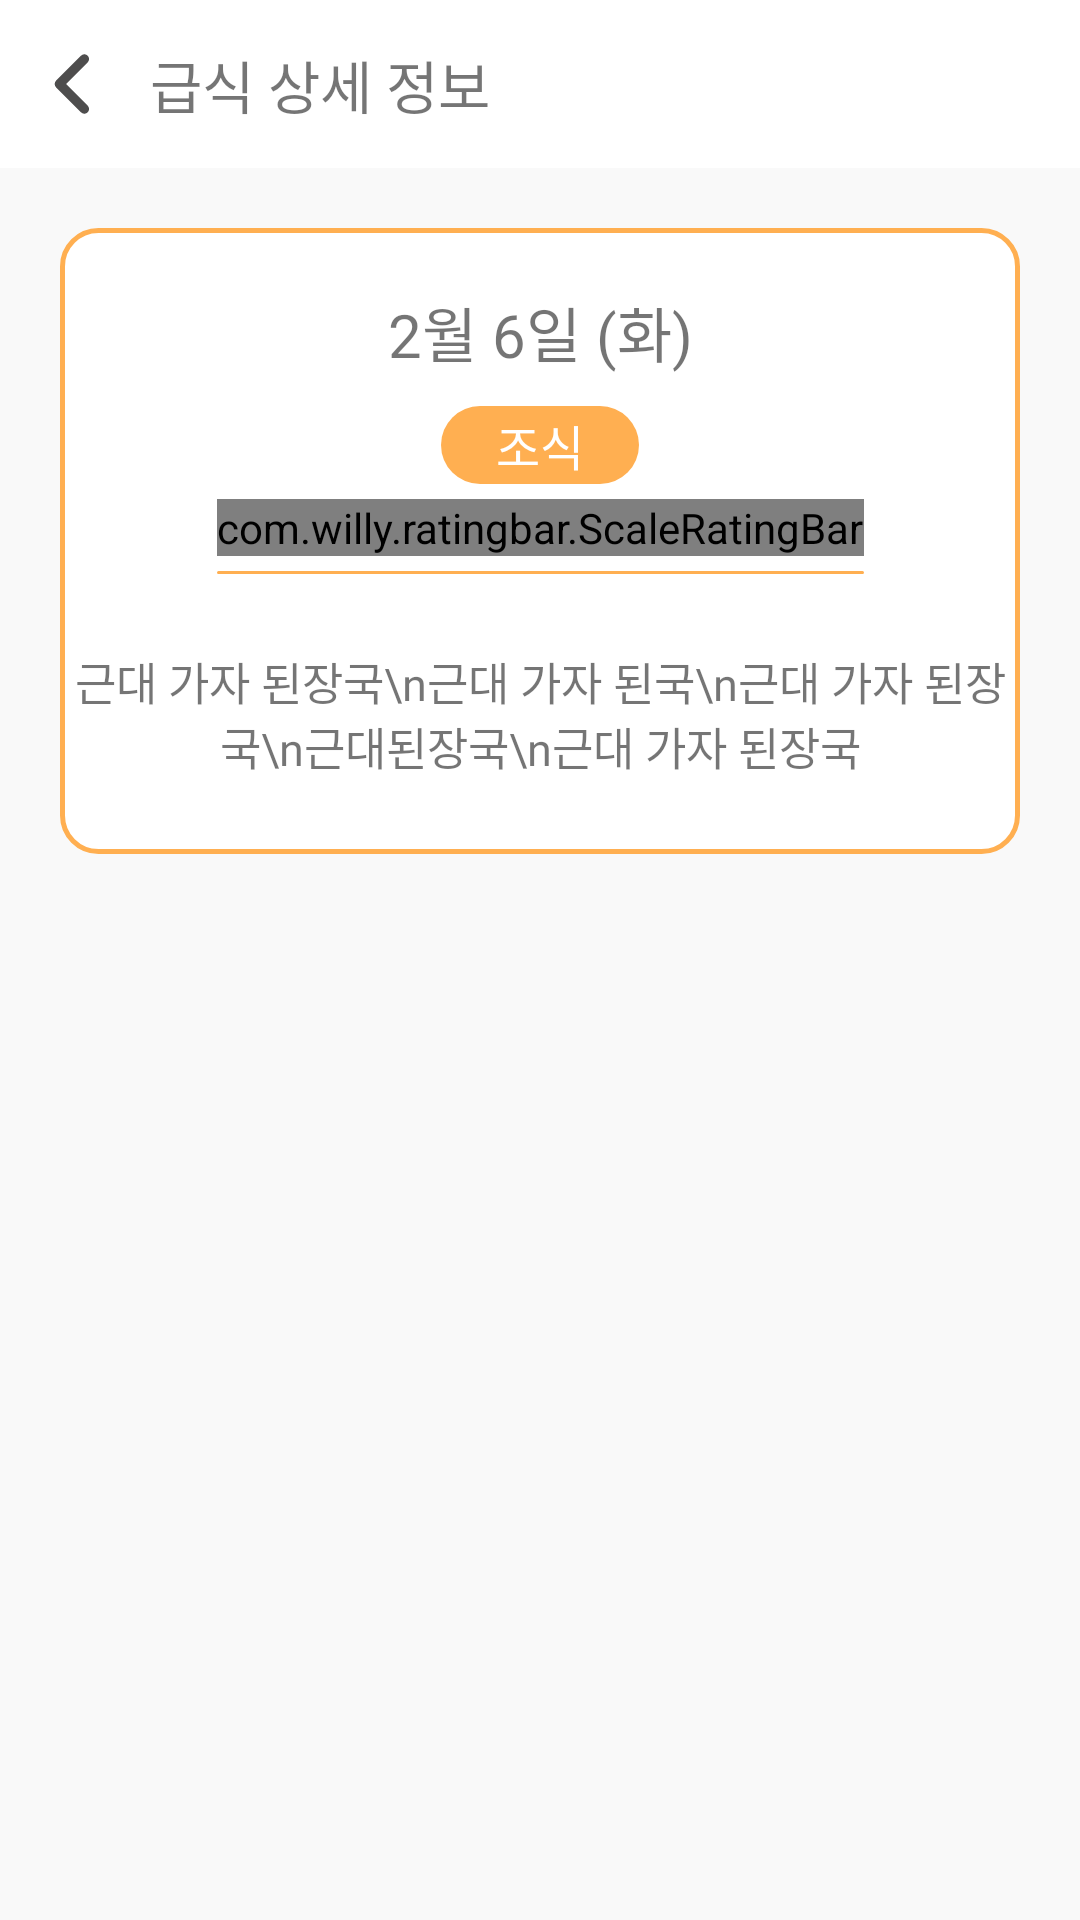

Icons on this 1080 x 1920 Android screen, each with the point to tap as (x,y):
arrow left: (71,84)
